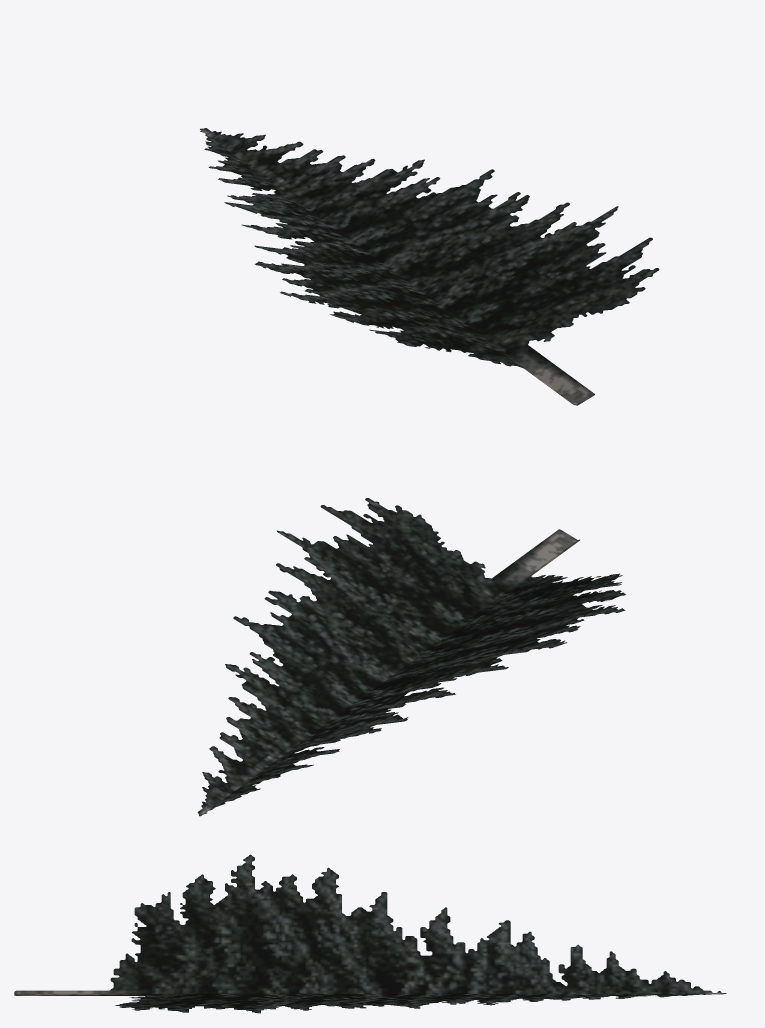
Rendered from SM_EC_Tree_Card_Bent_04.fbx.
The picture shows the model from 3 angles, top to bottom: view 1: azimuth 30°, elevation 25°; view 2: azimuth 150°, elevation 25°; view 3: azimuth 270°, elevation 25°; orthographic projection. The views are drawn at different scales.
Visible parts, largest first — view 1: SM_EC_Tree_Card_Bent_04; view 2: SM_EC_Tree_Card_Bent_04; view 3: SM_EC_Tree_Card_Bent_04.
Boxes of the visible parts, <box> form: SM_EC_Tree_Card_Bent_04: <box>200,128,659,405</box>; SM_EC_Tree_Card_Bent_04: <box>197,498,625,816</box>; SM_EC_Tree_Card_Bent_04: <box>14,854,726,1013</box>.
Bounding box in the file's own units: 1.95 × 3.82 × 0.3418.
